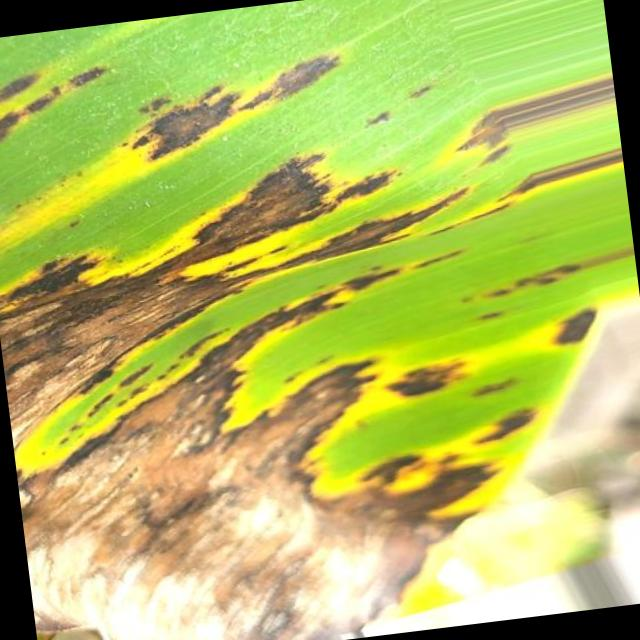Banana_Black_Sigatoka: (0, 191, 467, 497), (97, 386, 530, 640), (98, 34, 395, 188)
